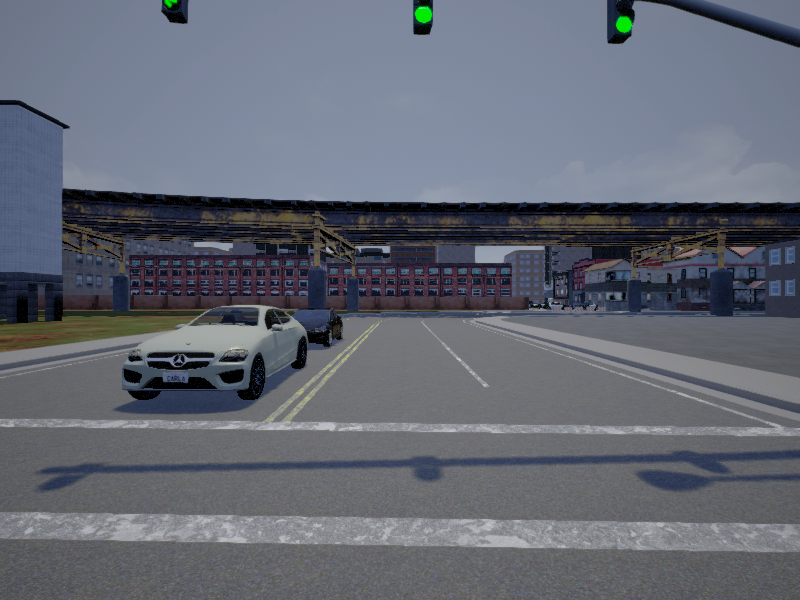Benign: (123, 305, 308, 399), (293, 307, 344, 347)
